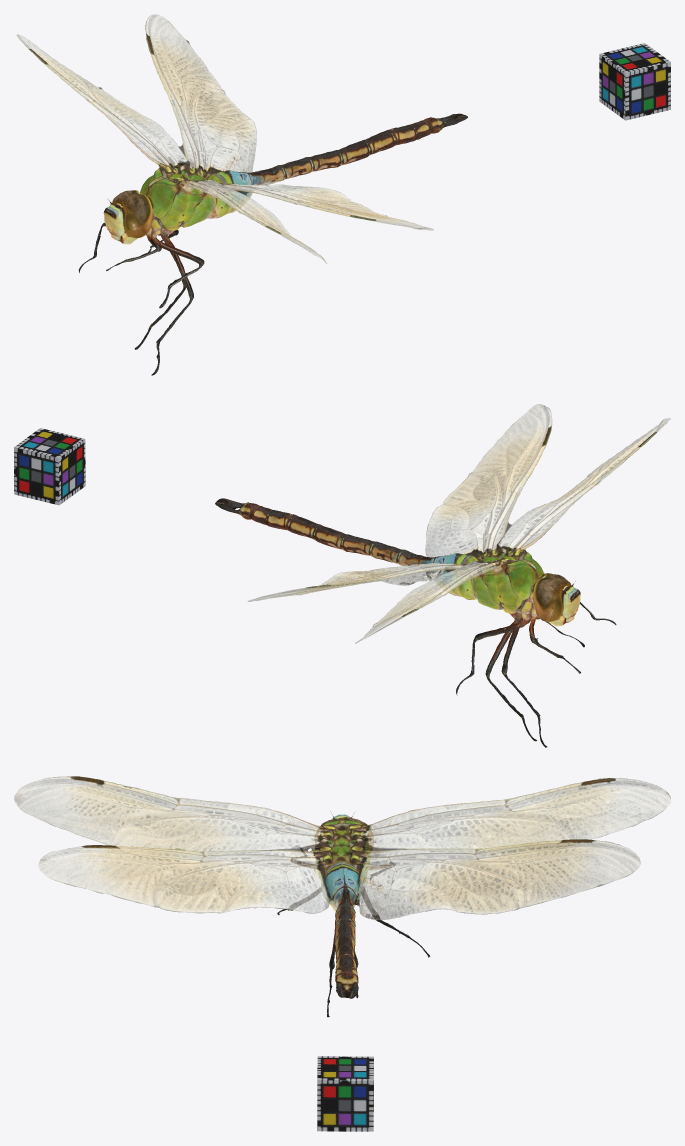
3 views of the same model, one above another, from view 1: azimuth 30°, elevation 25°; view 2: azimuth 150°, elevation 25°; view 3: azimuth 270°, elevation 25° (orthographic). The views are drawn at different scales.
Visible parts, largest first — view 1: hane_1, Cube_0; view 2: hane_1, Cube_0; view 3: hane_1, Cube_0.
Boxes of the visible parts, bbox=[...] form: hane_1: bbox=[16, 14, 467, 375]; Cube_0: bbox=[599, 43, 670, 120]; hane_1: bbox=[215, 404, 670, 747]; Cube_0: bbox=[14, 428, 85, 505]; hane_1: bbox=[14, 776, 670, 1017]; Cube_0: bbox=[317, 1056, 373, 1131].
Size of the model in its own units: 0.1221 by 0.0465 by 0.1129.
3 materials, 3 textured.
